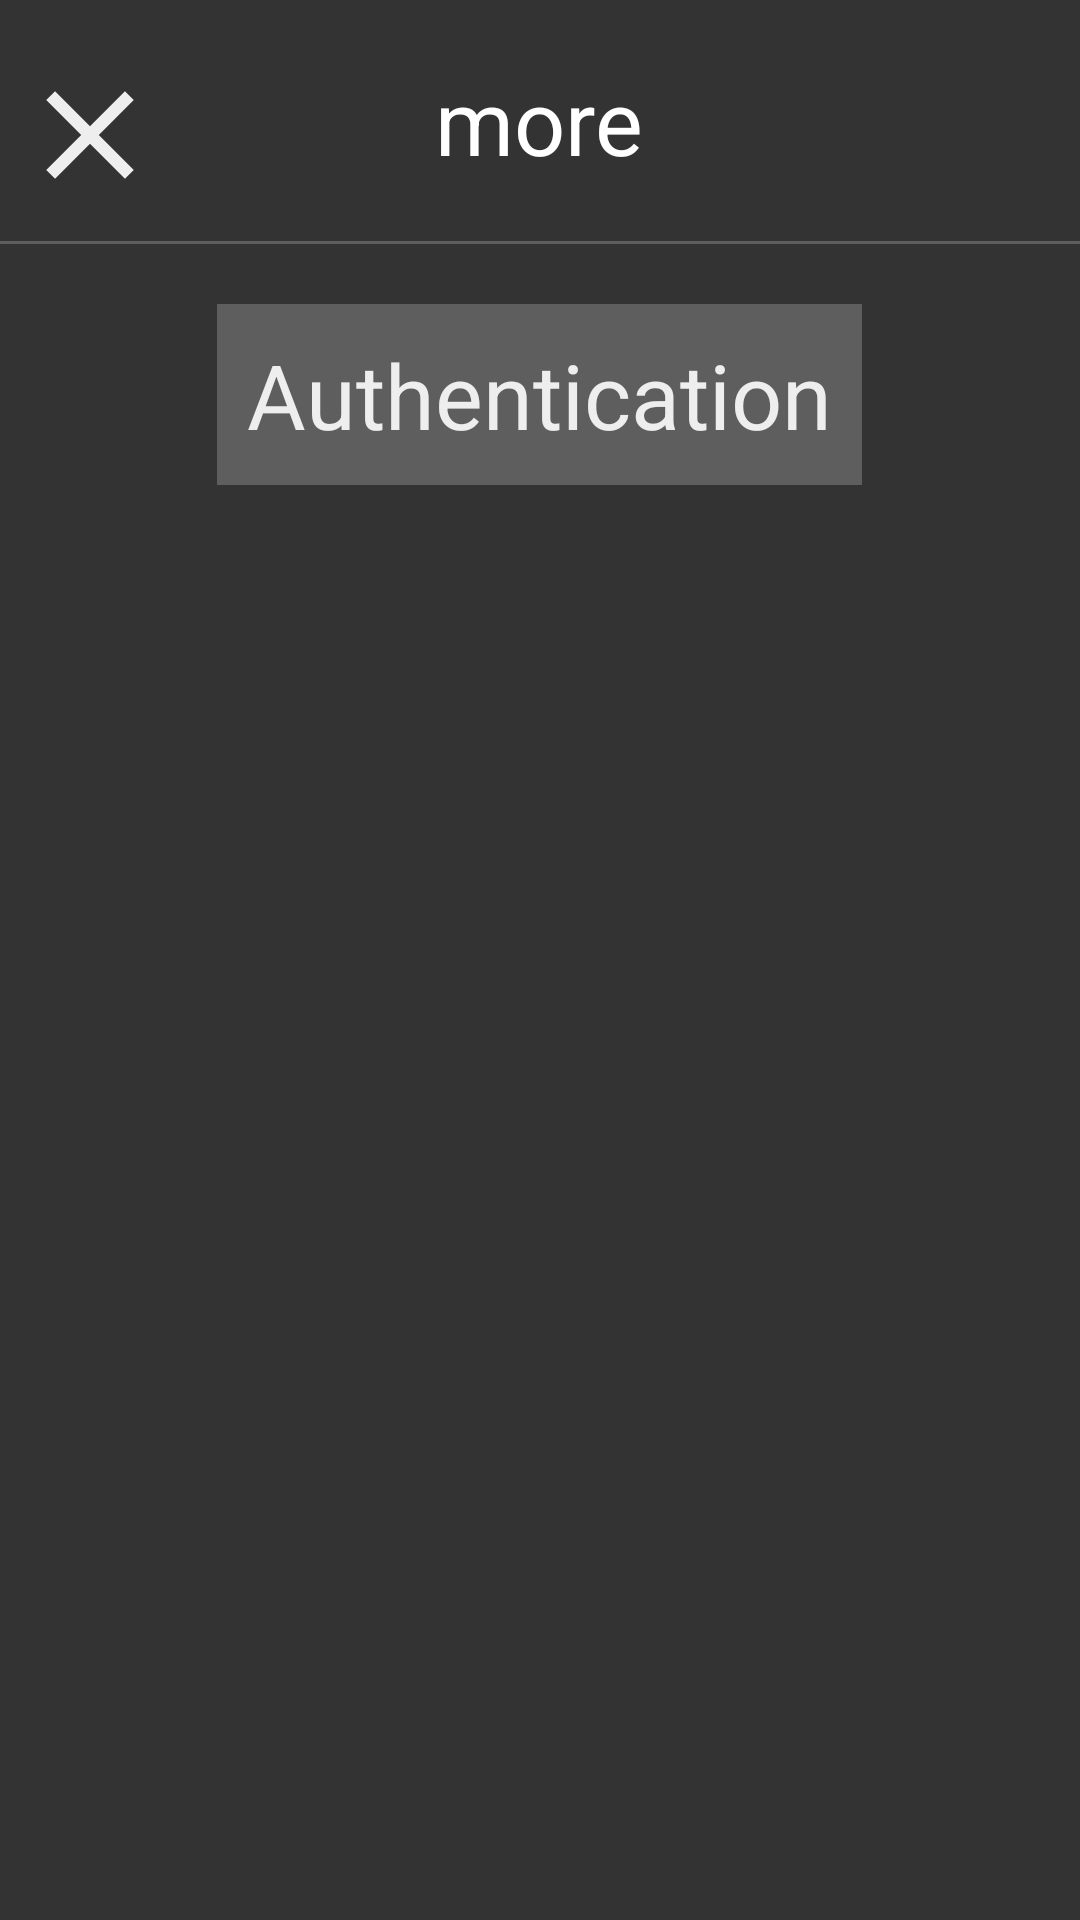

Icons on this 1080x1920 Android screen, each with its box as (left=x1, top=y1, right=x2, bottom=y2):
closebutton: (left=46, top=91, right=134, bottom=179)
